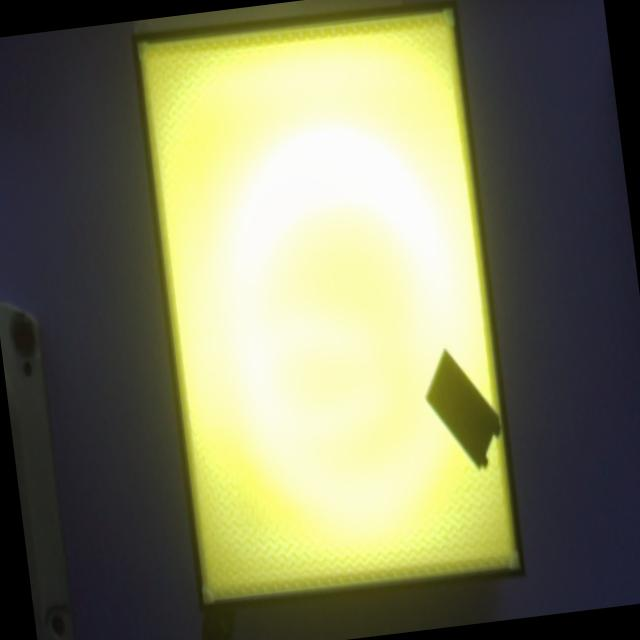bateria: (424, 347, 501, 470)
mesa: (128, 0, 527, 615)
